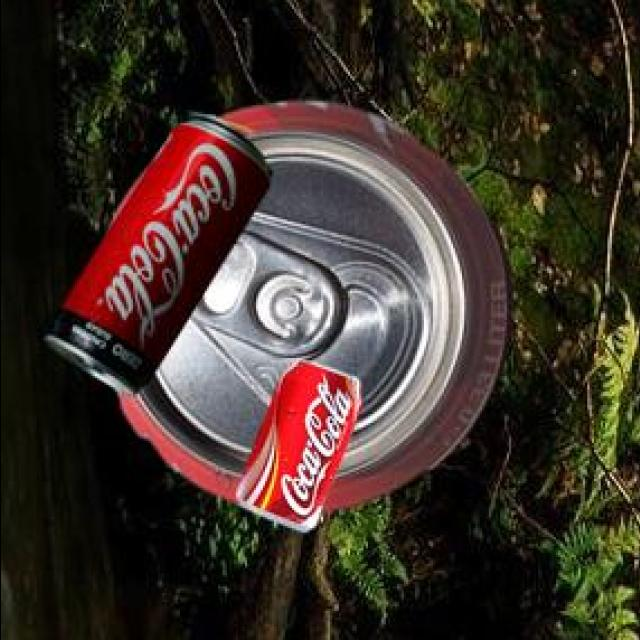logam: (117, 97, 516, 507), (48, 109, 274, 393), (238, 357, 364, 529)
